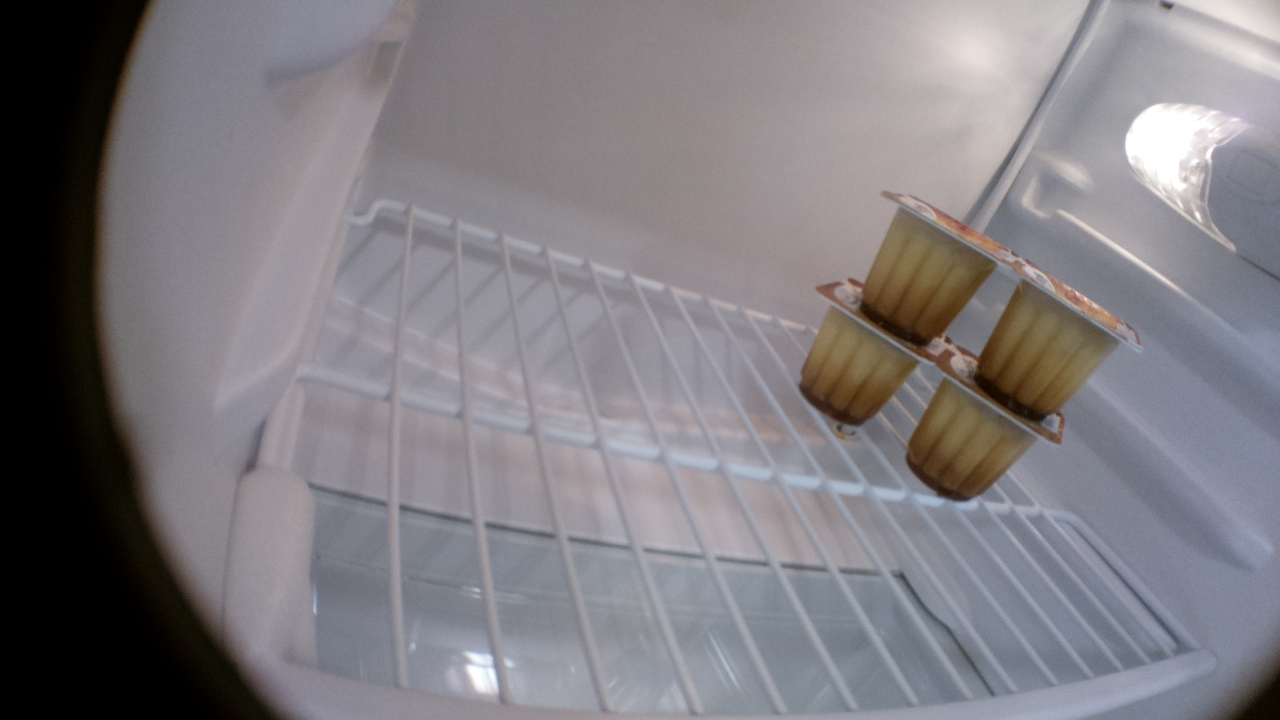caramel: (971, 260, 1144, 426), (860, 187, 1011, 346), (906, 354, 1066, 502), (796, 278, 936, 430)
